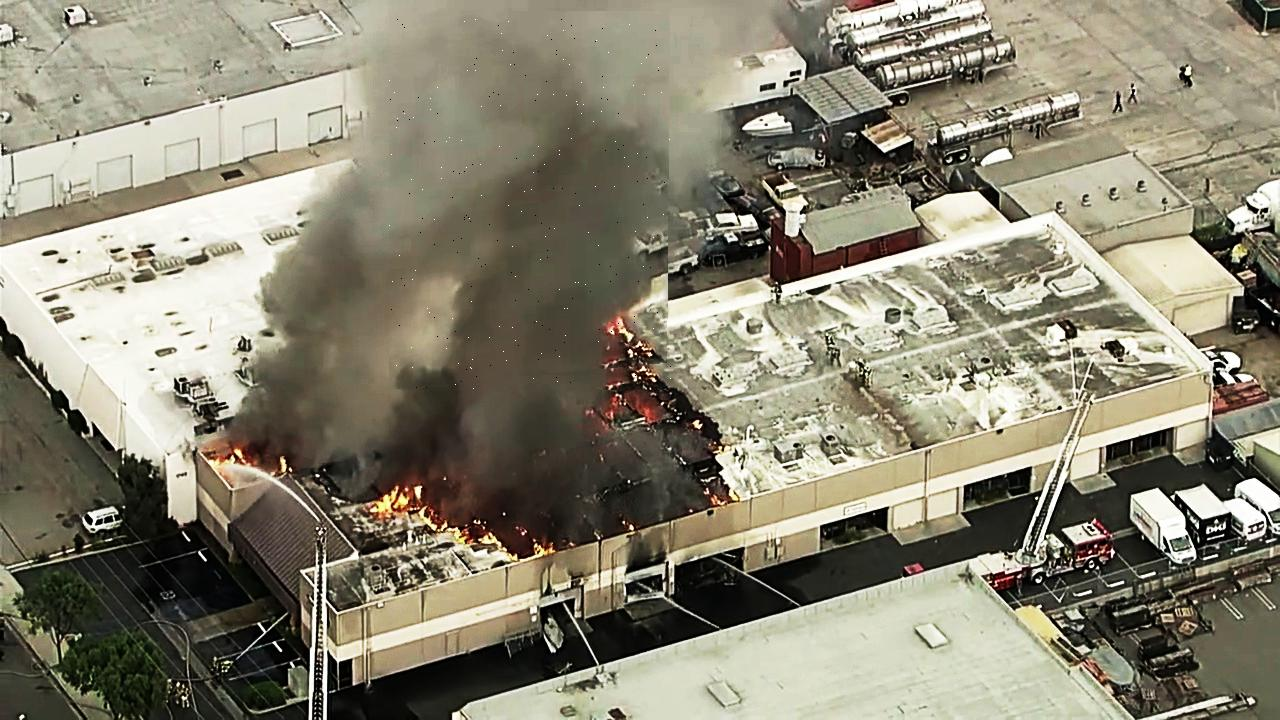smoke: (390, 11, 673, 390)
